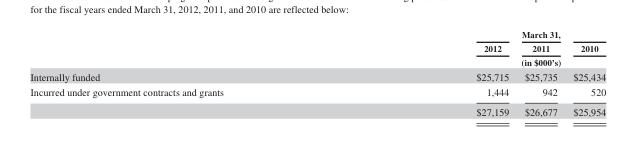table: (29, 28, 605, 117)
table column: (29, 28, 349, 117), (349, 28, 514, 117), (514, 28, 566, 117), (566, 28, 605, 117)
table column header: (29, 28, 605, 68)
table row: (29, 28, 605, 54), (29, 83, 605, 101), (29, 101, 605, 117), (29, 68, 605, 83), (29, 54, 605, 68)
table spanning cell: (349, 54, 605, 68)
